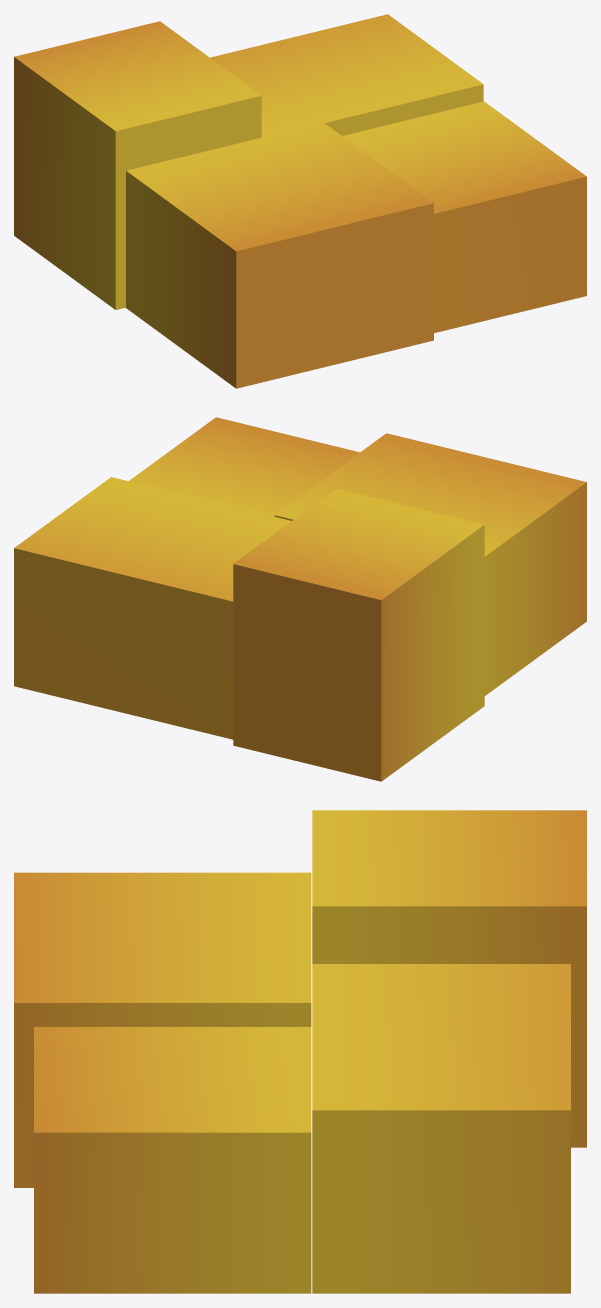
File: EFT0310002.fbx
3 renders of one model, top to bottom at view 1: azimuth 30°, elevation 25°; view 2: azimuth 150°, elevation 25°; view 3: azimuth 270°, elevation 25°, orthographic. The views are drawn at different scales.
Visible parts, largest first — view 1: smEFT03100002; view 2: smEFT03100002; view 3: smEFT03100002.
Part boxes in pixels (x1,y1,x2,y2): smEFT03100002: [14, 14, 586, 388]; smEFT03100002: [14, 417, 586, 781]; smEFT03100002: [14, 810, 586, 1293].
Bounding box in the file's own units: 135 × 62.8 × 135.
1 material, 1 textured.
